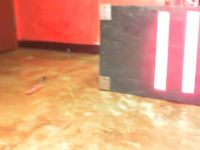switch: (180, 11, 199, 93), (152, 11, 170, 91)
